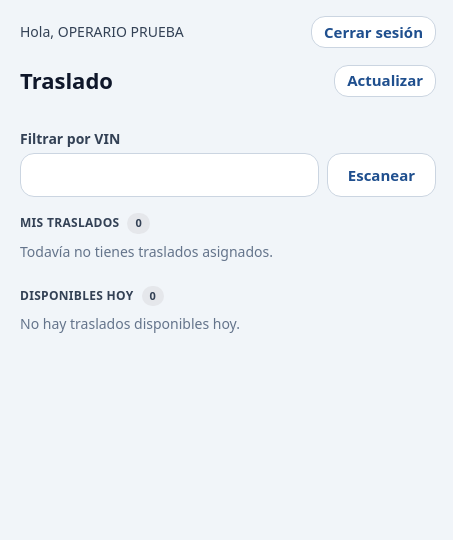
Scenario: cuándo aparece la búsqueda en el sistema › funciona también sin ninguna orden en la lista: el filtro está VISIBLE (no solo presente)
The image size is (453, 540).
Type "LSCA" into the search field labelled "Filtrar por VIN".
click(169, 175); type("LSCA")  # box top-left (20, 153), bottom-right (319, 197)
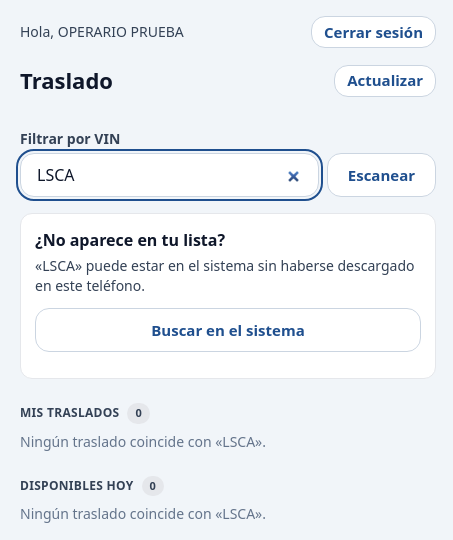
Result: the button "Buscar en el sistema" is enabled at top-left (35, 308), bottom-right (421, 352)
